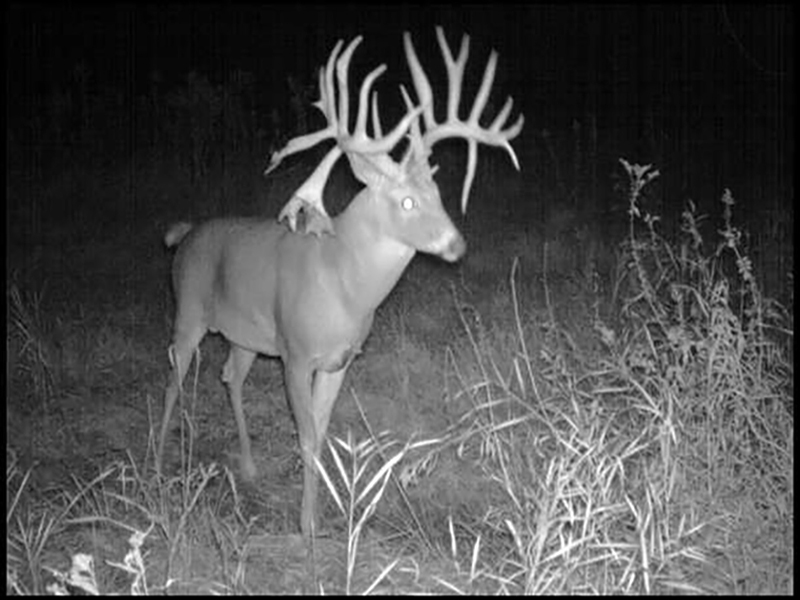cervo: (133, 34, 509, 493)
